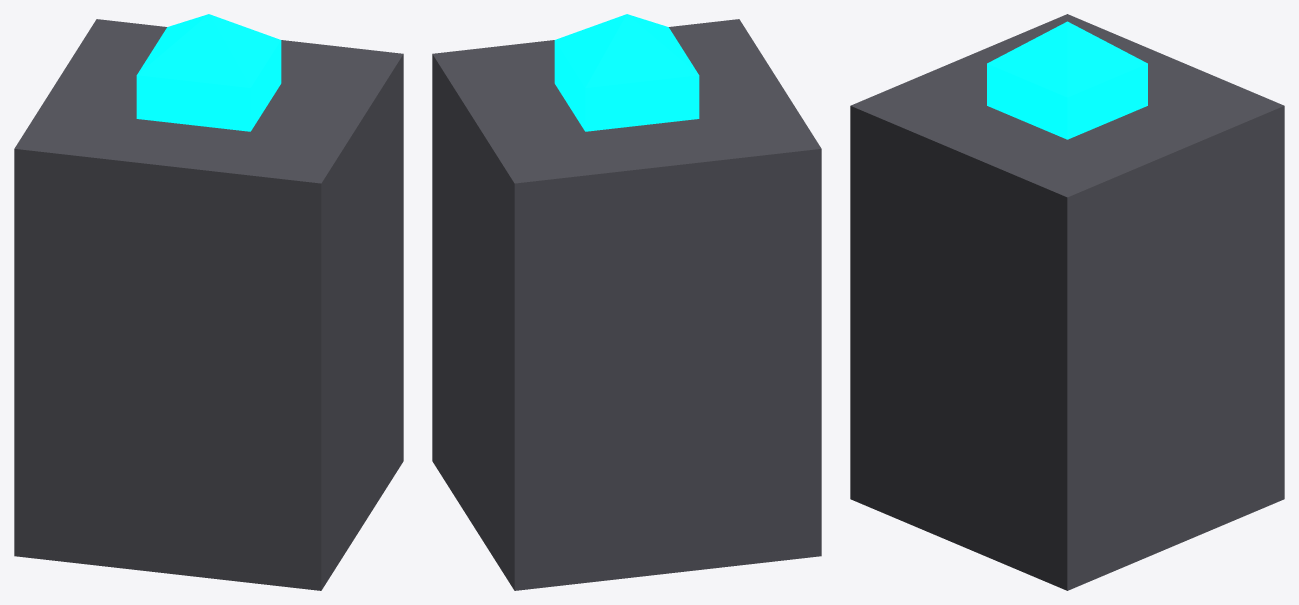
The model's file is tower_pulse_lod2.glb.
3 views of the same model, side by side, from view 1: azimuth 30°, elevation 25°; view 2: azimuth 150°, elevation 25°; view 3: azimuth 270°, elevation 25° (orthographic). The views are drawn at different scales.
Visible parts, largest first — view 1: tower_pulse_lod2; view 2: tower_pulse_lod2; view 3: tower_pulse_lod2.
Part boxes in pixels (x1,y1,x2,y2): tower_pulse_lod2: (14, 14, 403, 590); tower_pulse_lod2: (432, 14, 821, 590); tower_pulse_lod2: (850, 14, 1284, 590).
Size of the model in its own units: 0.7 by 0.85 by 0.7.
